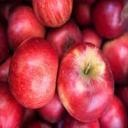apple: (32, 1, 75, 27)
